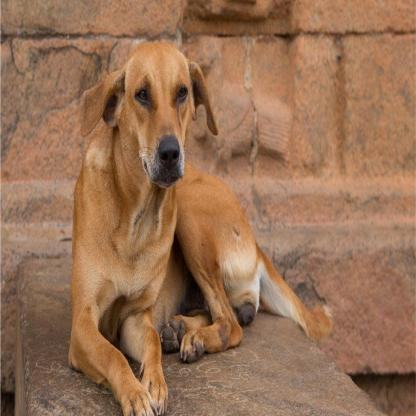dog: (82, 46, 282, 352)
